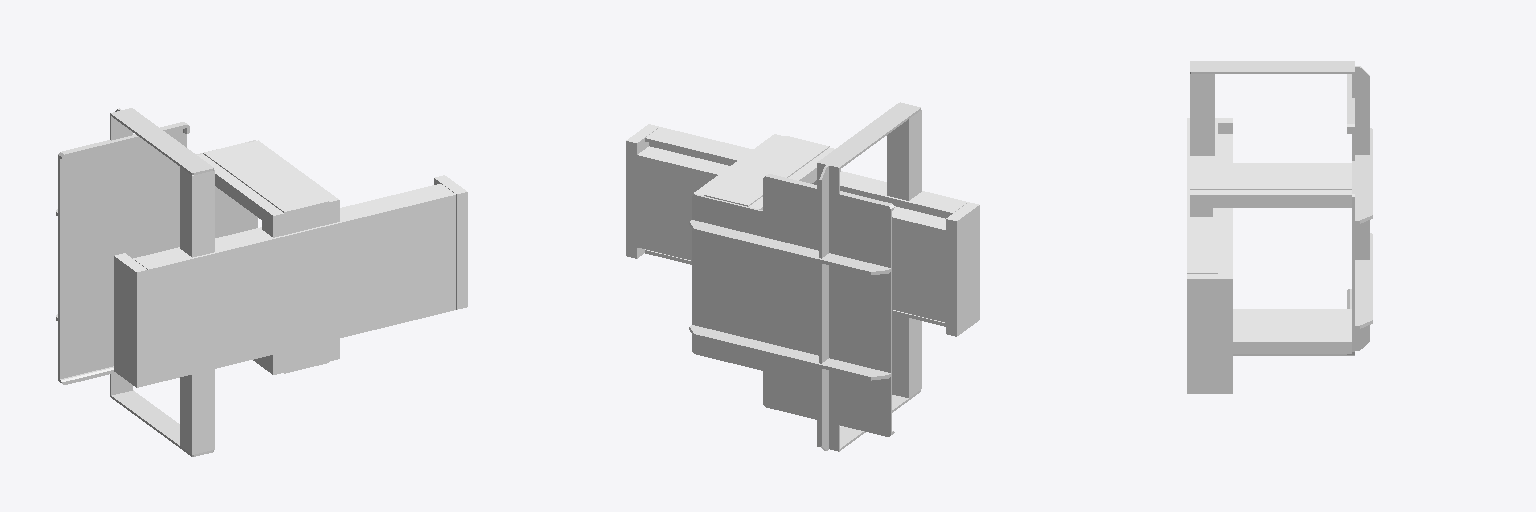
The model's file is x-body_s.obj.
3 renders of one model, left to right at view 1: azimuth 30°, elevation 25°; view 2: azimuth 150°, elevation 25°; view 3: azimuth 270°, elevation 25°, orthographic.
Visible parts, largest first — view 1: x-body_s.001; view 2: x-body_s.001; view 3: x-body_s.001.
Part boxes in pixels (left/top/right/bottom): x-body_s.001: left=56, top=108, right=467, bottom=456; x-body_s.001: left=626, top=102, right=979, bottom=451; x-body_s.001: left=1187, top=61, right=1372, bottom=393.
Size of the model in its own units: 1.5 by 1.23 by 0.727.